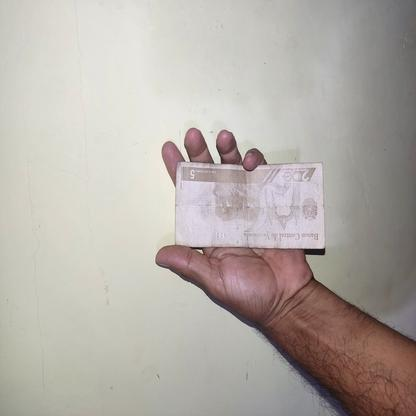five-back-vef: (175, 162, 326, 248)
